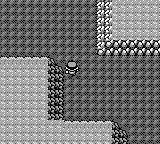captura: (0, 0, 160, 144)
main: (65, 61, 79, 76)
no-caminable: (97, 1, 159, 56), (48, 58, 64, 120), (113, 121, 128, 143)
